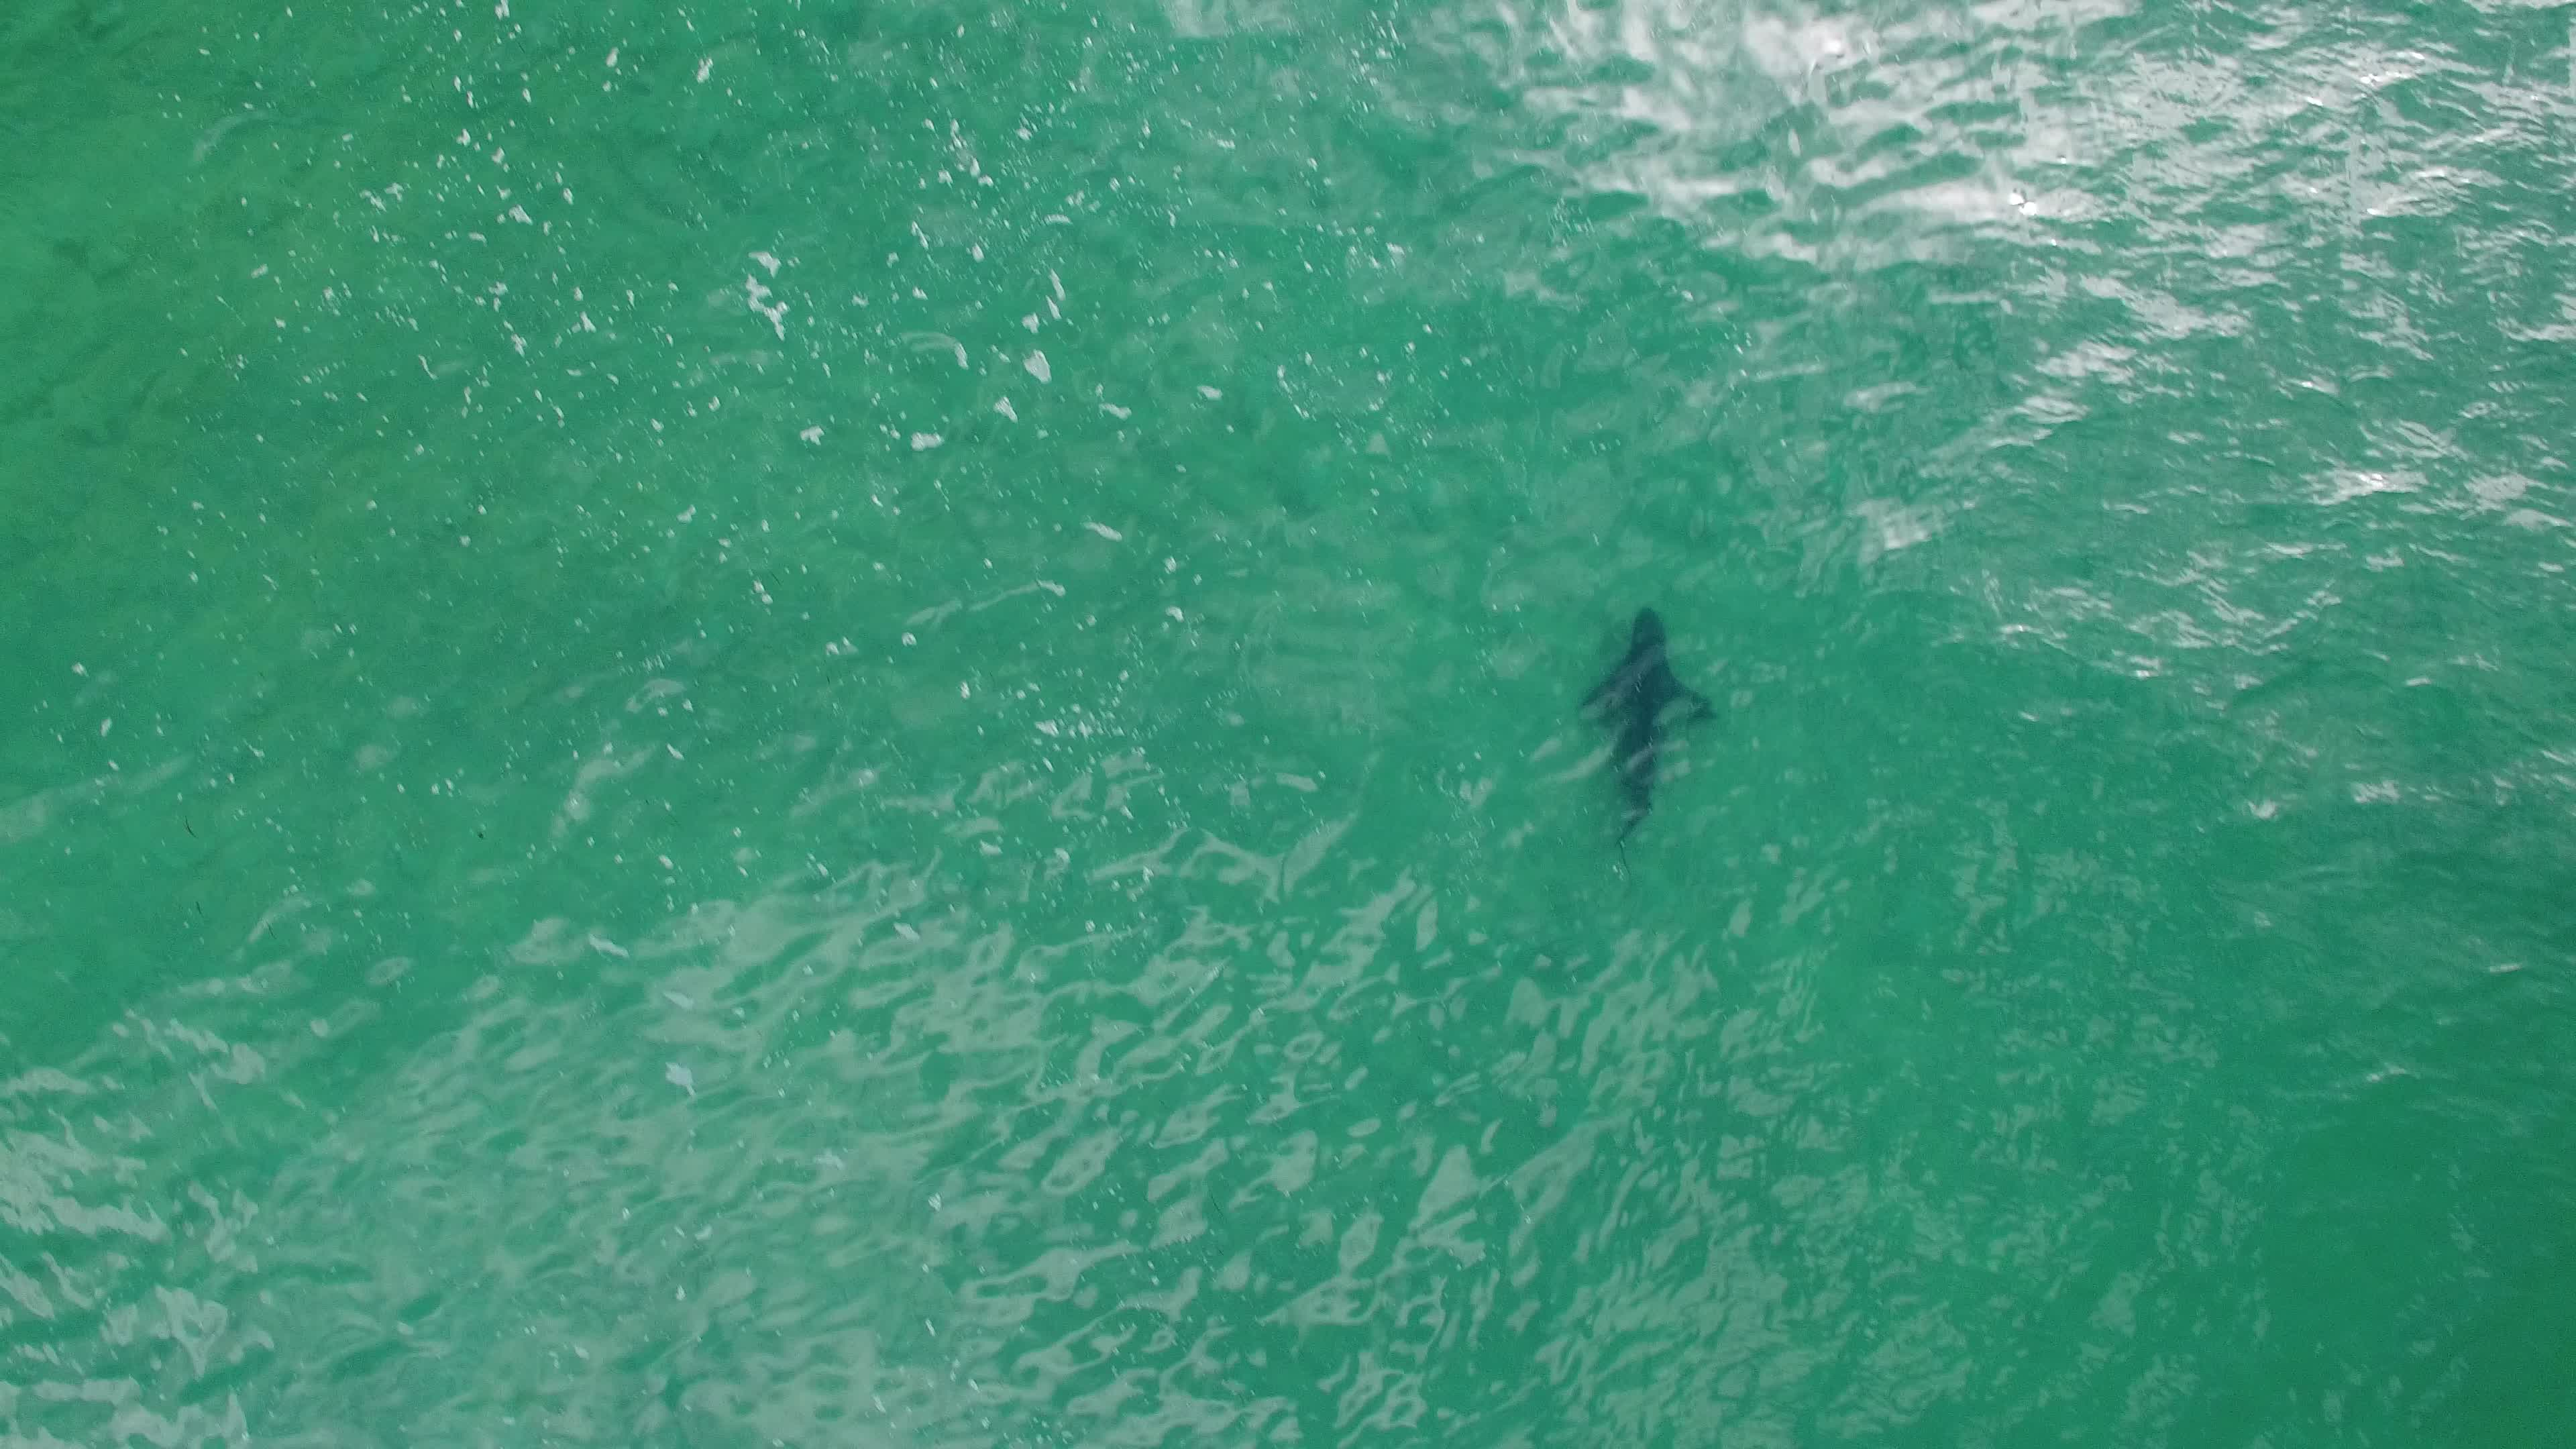shark: (1560, 594, 1730, 885)
